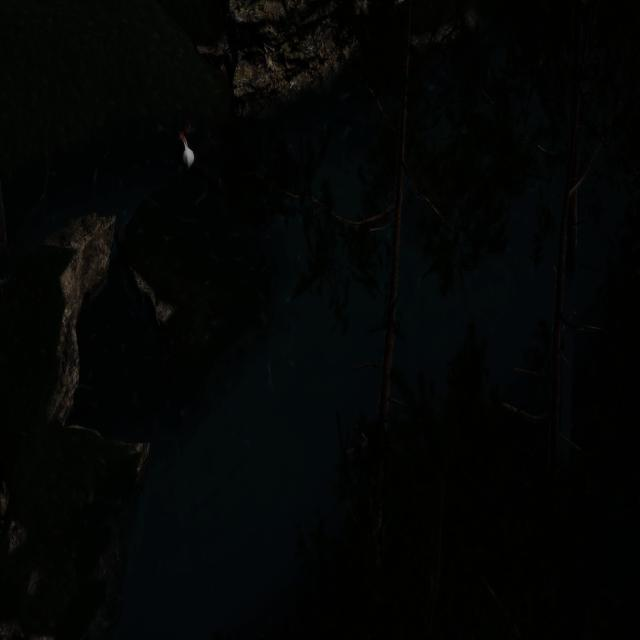Human: (173, 120, 230, 203)
